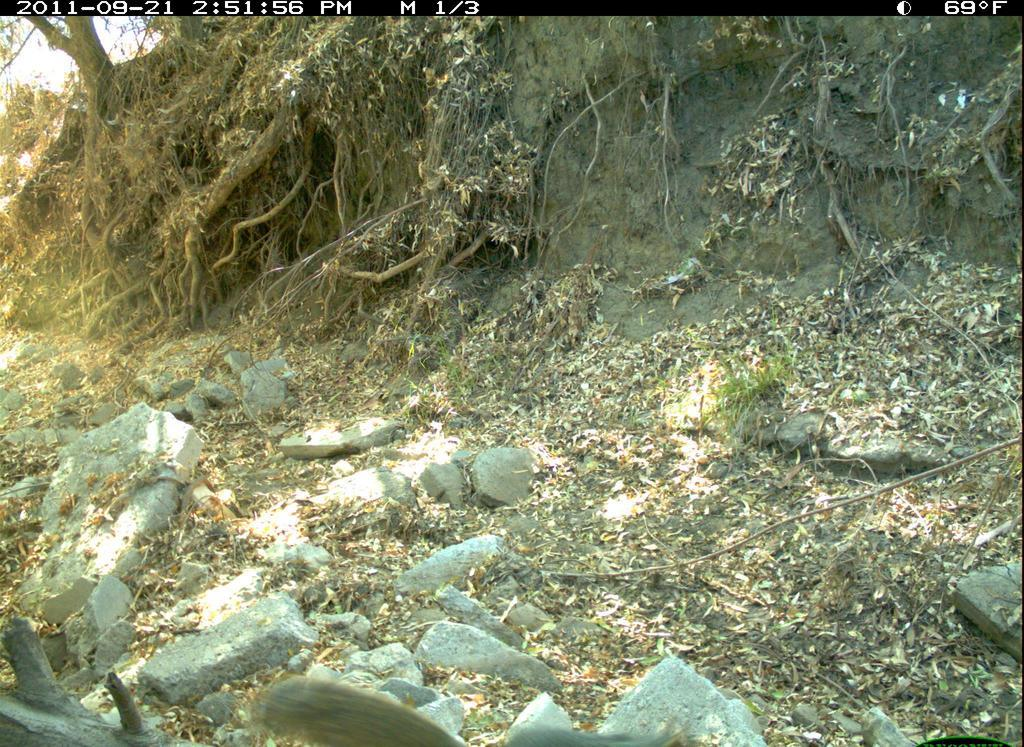squirrel: (249, 668, 709, 747)
